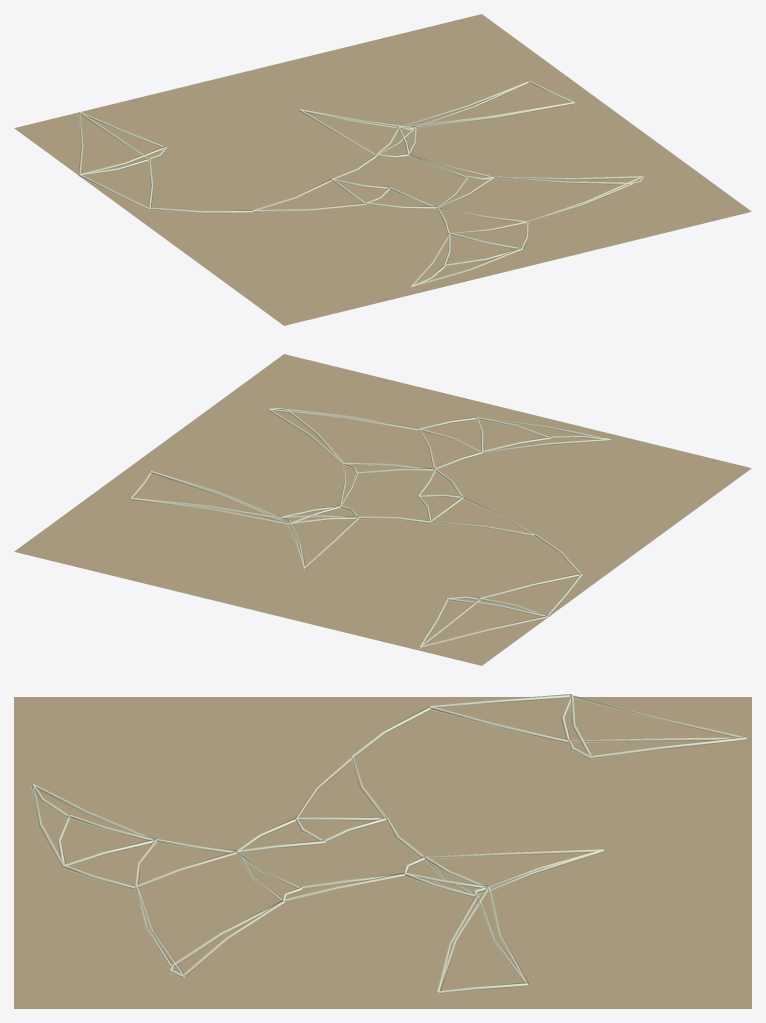
The model's file is lake-caustics-shallows-0.glb.
The picture shows the model from 3 angles, top to bottom: view 1: azimuth 30°, elevation 25°; view 2: azimuth 150°, elevation 25°; view 3: azimuth 270°, elevation 25°; orthographic projection. The views are drawn at different scales.
Parts seen in each view (by area): view 1: lake-caustics-shallows-0; view 2: lake-caustics-shallows-0; view 3: lake-caustics-shallows-0.
Part boxes in pixels (bbox=[...]): lake-caustics-shallows-0: bbox=[14, 14, 751, 325]; lake-caustics-shallows-0: bbox=[14, 354, 751, 665]; lake-caustics-shallows-0: bbox=[14, 694, 751, 1008].
Bounding box in the file's own units: 3.01 × 0.0149 × 3.
